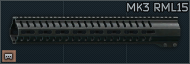AR-10 CMMG MK3 RML15 15 inch M-LOK handguard: (0, 0, 190, 64)
